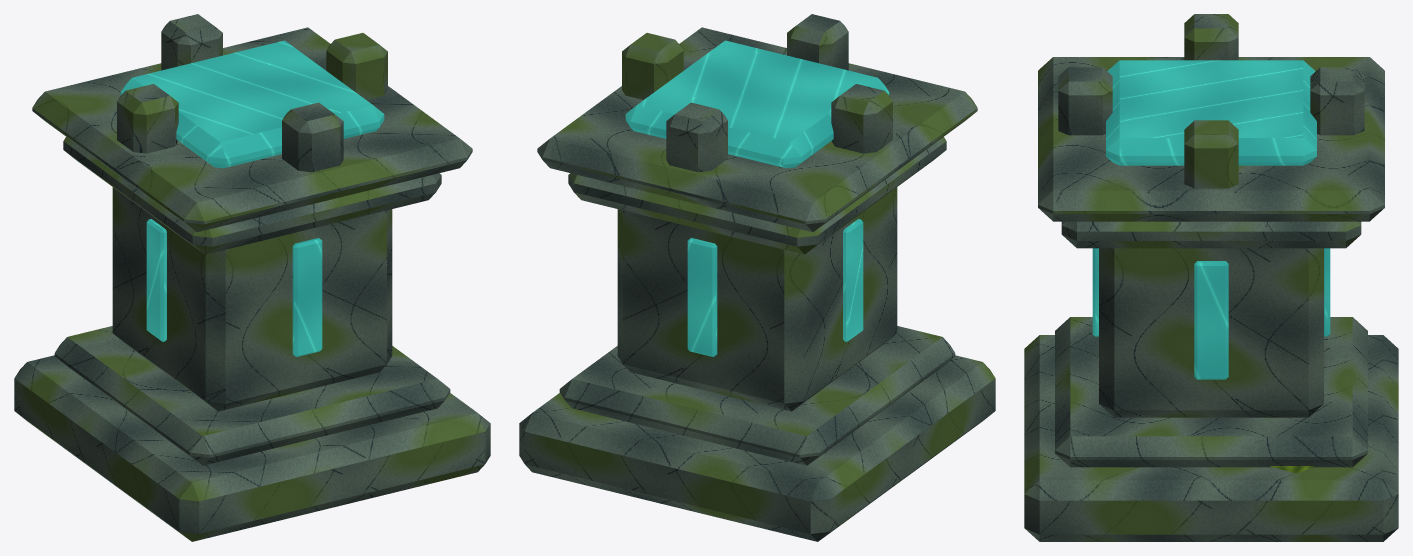
Rendered from temple-cyan-pedestal.glb.
3 views of the same model, side by side, from view 1: azimuth 30°, elevation 25°; view 2: azimuth 150°, elevation 25°; view 3: azimuth 270°, elevation 25° (orthographic). The views are drawn at different scales.
Visible parts, largest first — view 1: temple-cyan-pedestal_kit-stone, temple-cyan-pedestal_kit-cyan; view 2: temple-cyan-pedestal_kit-stone, temple-cyan-pedestal_kit-cyan; view 3: temple-cyan-pedestal_kit-stone, temple-cyan-pedestal_kit-cyan.
Part boxes in pixels (box(x1,y1,x2,y2)): temple-cyan-pedestal_kit-stone: box(14, 14, 490, 541); temple-cyan-pedestal_kit-cyan: box(120, 40, 384, 356); temple-cyan-pedestal_kit-stone: box(519, 14, 995, 541); temple-cyan-pedestal_kit-cyan: box(625, 40, 889, 356); temple-cyan-pedestal_kit-stone: box(1024, 14, 1398, 541); temple-cyan-pedestal_kit-cyan: box(1092, 60, 1330, 379).
Bounding box in the file's own units: 1.1 × 1.28 × 1.1.
Materials: 3 (3 with a texture image).
